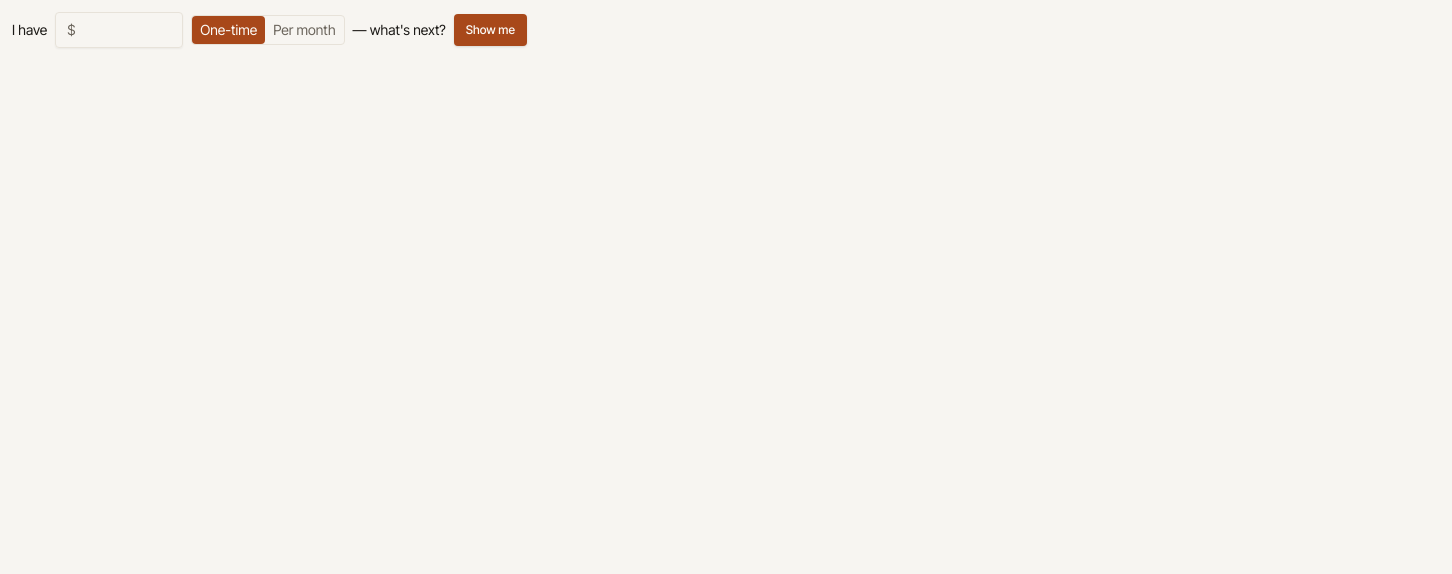
Test: QuestionBar › submits $10,000 one-time → three framework cards with the fixture split
Type "10000" into the field named "Amount".
click(119, 30); type("10000")  # box [55,12,183,48]
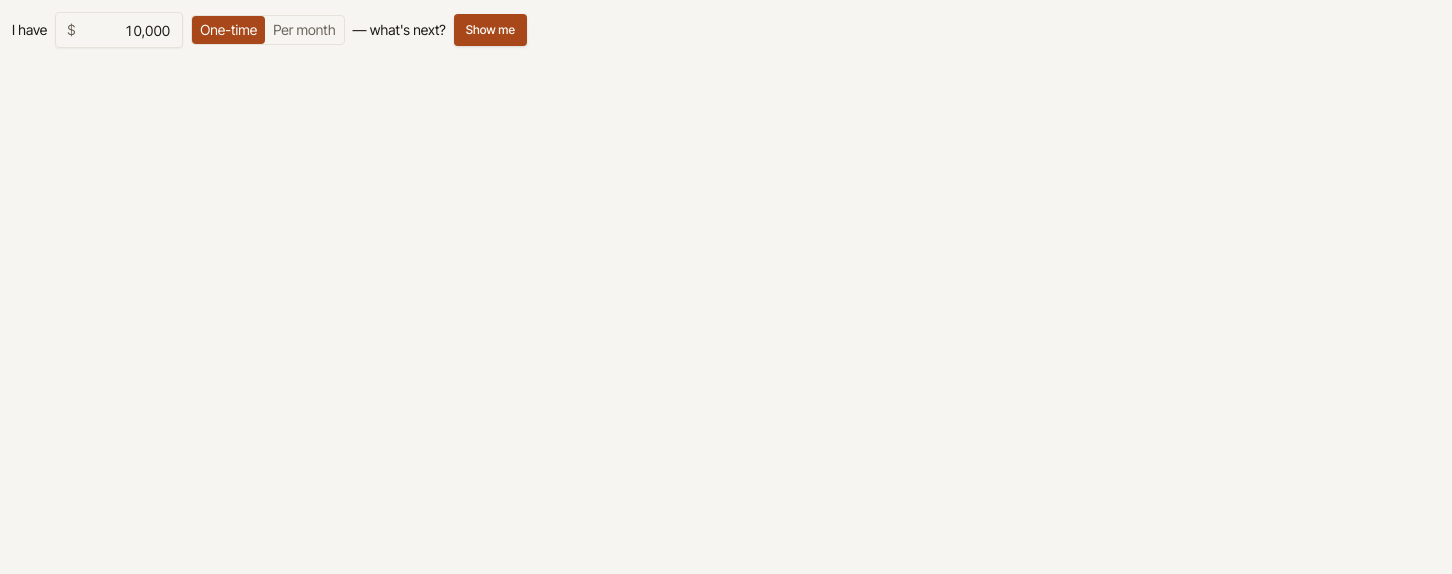
Click the button "Show me".
click(490, 30)  # box [454,14,527,46]
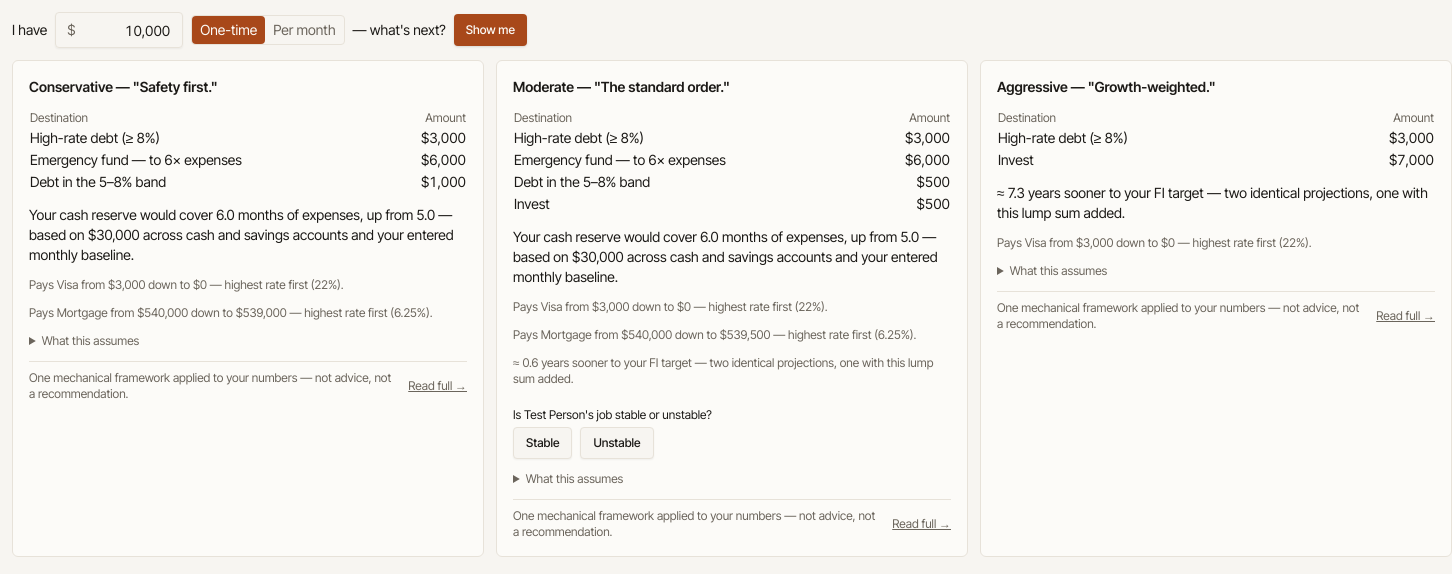
Check: the element with test id "framework-conservative" shows "Emergency fund — to 6× expenses", box [30,151,242,168]
Check: the element with test id "framework-conservative" shows "$6,000", box [421,151,466,168]
Check: the element with test id "framework-moderate" shows "$500", box [916,173,950,190]
